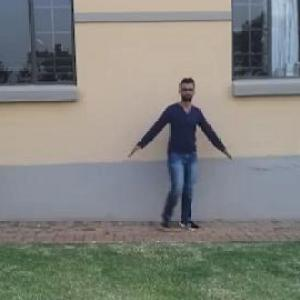land: (121, 84, 227, 244)
